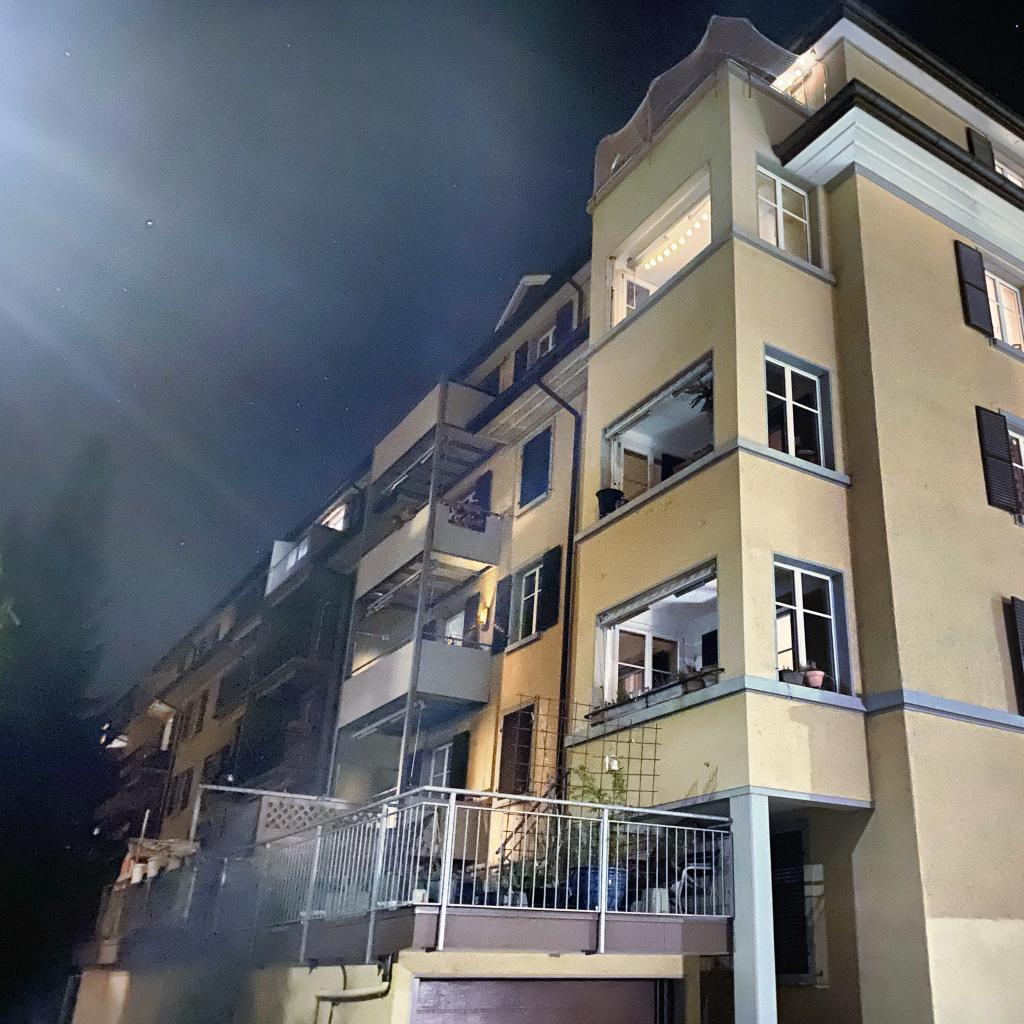balcony-fence: (85, 785, 736, 970), (585, 59, 817, 215), (583, 664, 727, 738), (360, 496, 503, 561), (344, 632, 492, 682)
facade: (58, 0, 1024, 1024)
vegetation: (0, 430, 132, 1018), (496, 761, 635, 889), (781, 660, 822, 671)
window: (774, 562, 841, 693), (765, 355, 826, 468), (770, 828, 811, 976), (758, 164, 812, 265), (616, 628, 679, 698), (497, 705, 535, 803), (984, 267, 1024, 352), (518, 423, 552, 512), (518, 562, 544, 642), (622, 447, 648, 503), (166, 766, 194, 817), (427, 741, 452, 798), (1008, 428, 1024, 515), (181, 688, 208, 739), (626, 279, 651, 317), (995, 158, 1024, 189), (443, 609, 465, 646), (535, 325, 555, 362), (286, 537, 307, 571), (321, 504, 345, 531), (702, 629, 718, 668), (159, 715, 175, 751)
